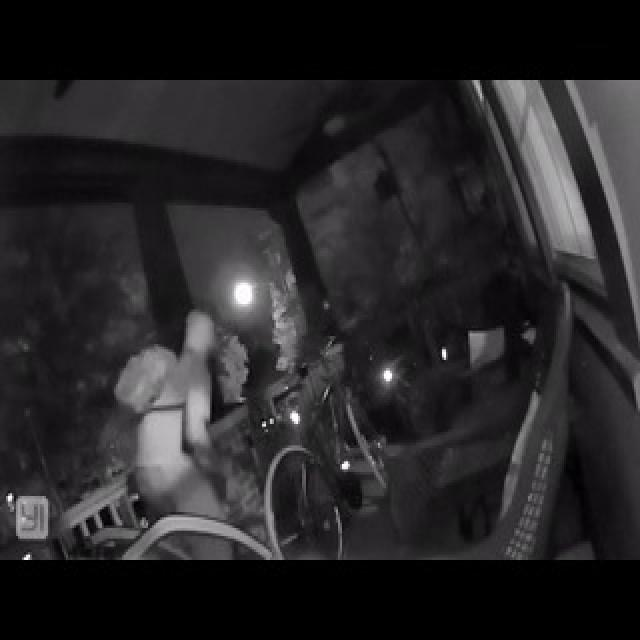thief: (120, 298, 344, 536)
